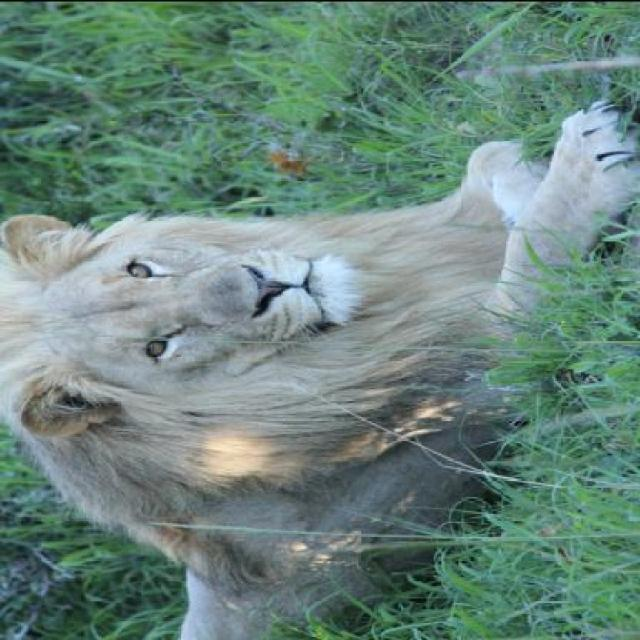Lion: (0, 101, 638, 638)
